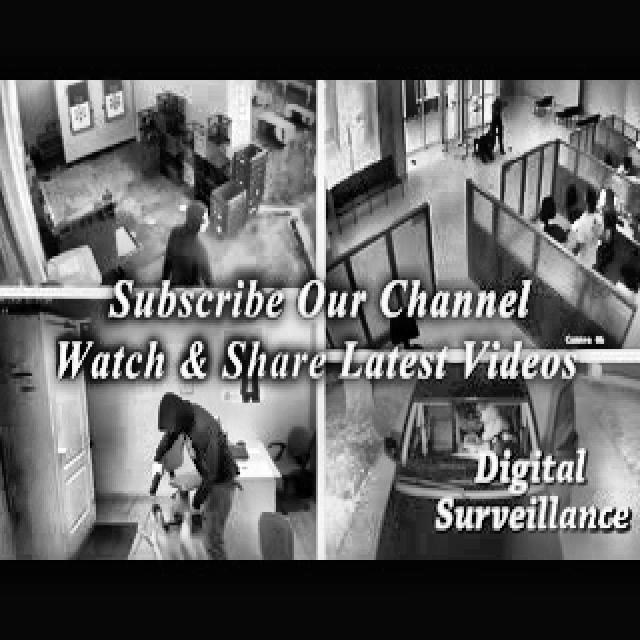burglary: (158, 192, 218, 288)
